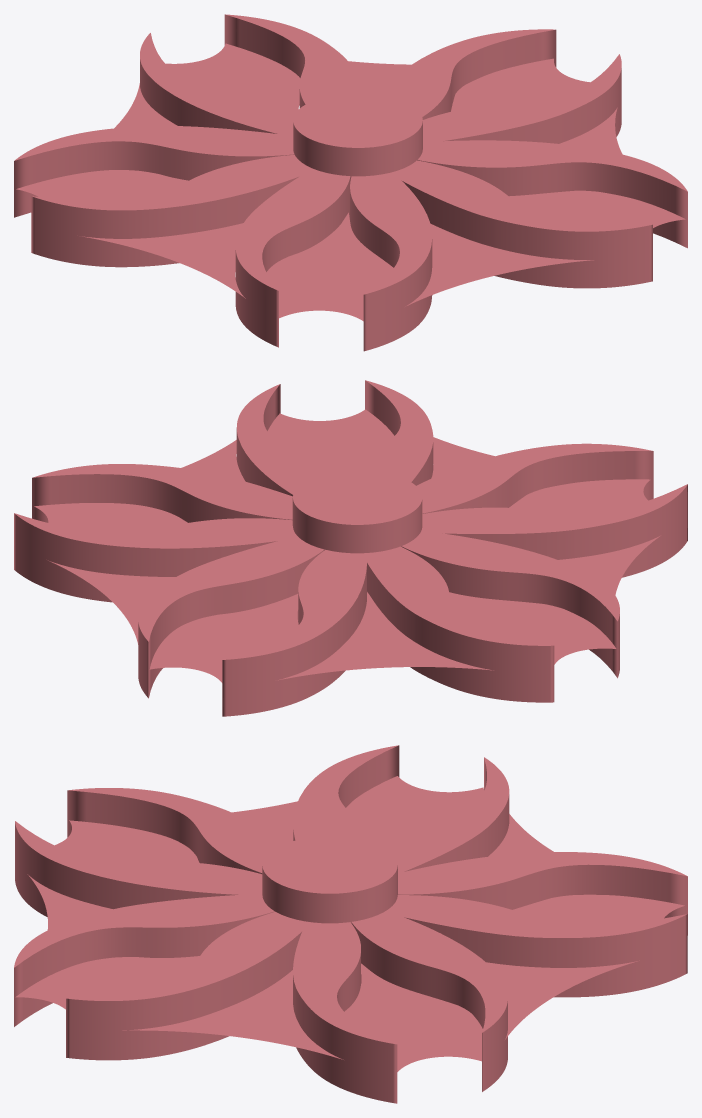
The model's file is asset.glb.
3 views of the same model, one above another, from view 1: azimuth 30°, elevation 25°; view 2: azimuth 150°, elevation 25°; view 3: azimuth 270°, elevation 25° (orthographic). The views are drawn at different scales.
Visible parts, largest first — view 1: Curve, Curve.005, Curve.011, Curve.002, Curve.008, Curve.001, Curve.020, Curve.004, Curve.014, Curve.007, Curve.017, Curve.003 (+9 smaller); view 2: Curve.002, Curve.014, Curve.017, Curve.001, Curve.005, Curve.004, Curve.003, Curve.008, Curve.020, Curve.016, Curve.019, Curve.011 (+9 smaller); view 3: Curve.011, Curve.003, Curve, Curve.017, Curve.004, Curve.014, Curve.008, Curve.020, Curve.001, Curve.013, Curve.002, Curve.005 (+9 smaller).
Part boxes in pixels (left/top/right/bottom): Curve: left=388, top=160, right=652, bottom=288; Curve.005: left=31, top=155, right=315, bottom=267; Curve.011: left=417, top=140, right=687, bottom=248; Curve.002: left=14, top=125, right=294, bottom=217; Curve.008: left=350, top=173, right=432, bottom=351; Curve.001: left=235, top=168, right=350, bottom=347; Curve.020: left=293, top=93, right=422, bottom=178; Curve.004: left=423, top=54, right=621, bottom=143; Curve.014: left=379, top=29, right=556, bottom=119; Curve.007: left=266, top=212, right=393, bottom=321; Curve.017: left=140, top=33, right=298, bottom=137; Curve.003: left=224, top=14, right=363, bottom=108; Curve.002: left=362, top=546, right=554, bottom=702; Curve.014: left=14, top=513, right=298, bottom=602; Curve.017: left=222, top=549, right=366, bottom=716; Curve.001: left=420, top=484, right=687, bottom=577; Curve.005: left=401, top=532, right=619, bottom=678; Curve.004: left=32, top=464, right=292, bottom=522; Curve.003: left=138, top=537, right=324, bottom=698; Curve.008: left=416, top=443, right=653, bottom=513; Curve.020: left=292, top=470, right=422, bottom=553; Curve.016: left=149, top=594, right=298, bottom=682; Curve.019: left=449, top=592, right=616, bottom=664; Curve.011: left=236, top=384, right=333, bottom=496; Curve.011: left=66, top=911, right=309, bottom=1060; Curve.003: left=386, top=895, right=687, bottom=997; Curve: left=14, top=893, right=274, bottom=1026; Curve.017: left=398, top=852, right=687, bottom=935; Curve.004: left=293, top=921, right=397, bottom=1103; Curve.014: left=351, top=911, right=507, bottom=1091; Curve.008: left=15, top=821, right=262, bottom=916; Curve.020: left=262, top=836, right=397, bottom=923; Curve.001: left=67, top=788, right=283, bottom=873; Curve.013: left=344, top=963, right=482, bottom=1071; Curve.002: left=378, top=757, right=509, bottom=873; Curve.005: left=293, top=745, right=399, bottom=840.
Bounding box in the file's own units: 0.9121 × 0.1685 × 0.8681.
